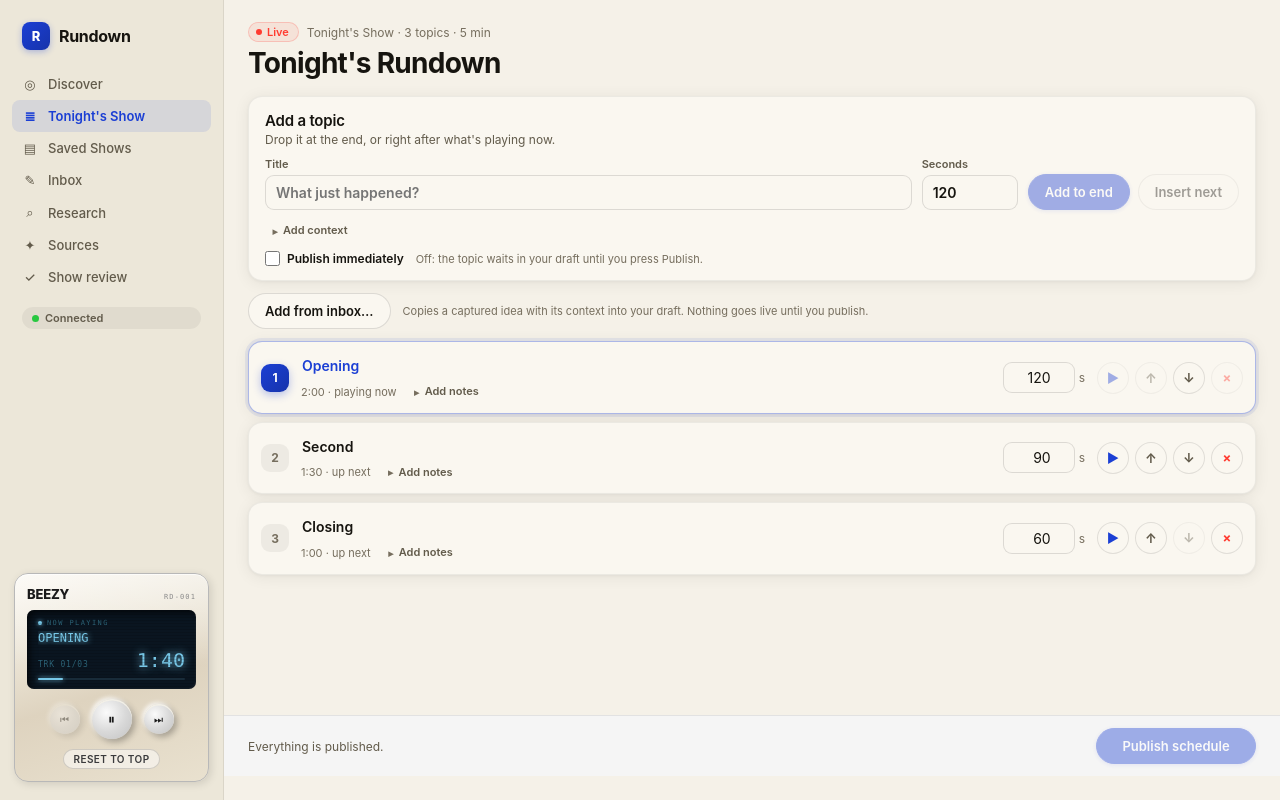
Test: a remote change while drafting keeps the draft; merge-and-publish keeps local edits, remote field changes and remote additions
The image size is (1280, 800).
expect the field showing "Opening" is shown: met, box 295,352 -> 985,379
Replace the text in the field named "Topic 3 title" with "Closing remarks" at (640, 527), box 295,513 -> 985,540
Wait 2000 ms
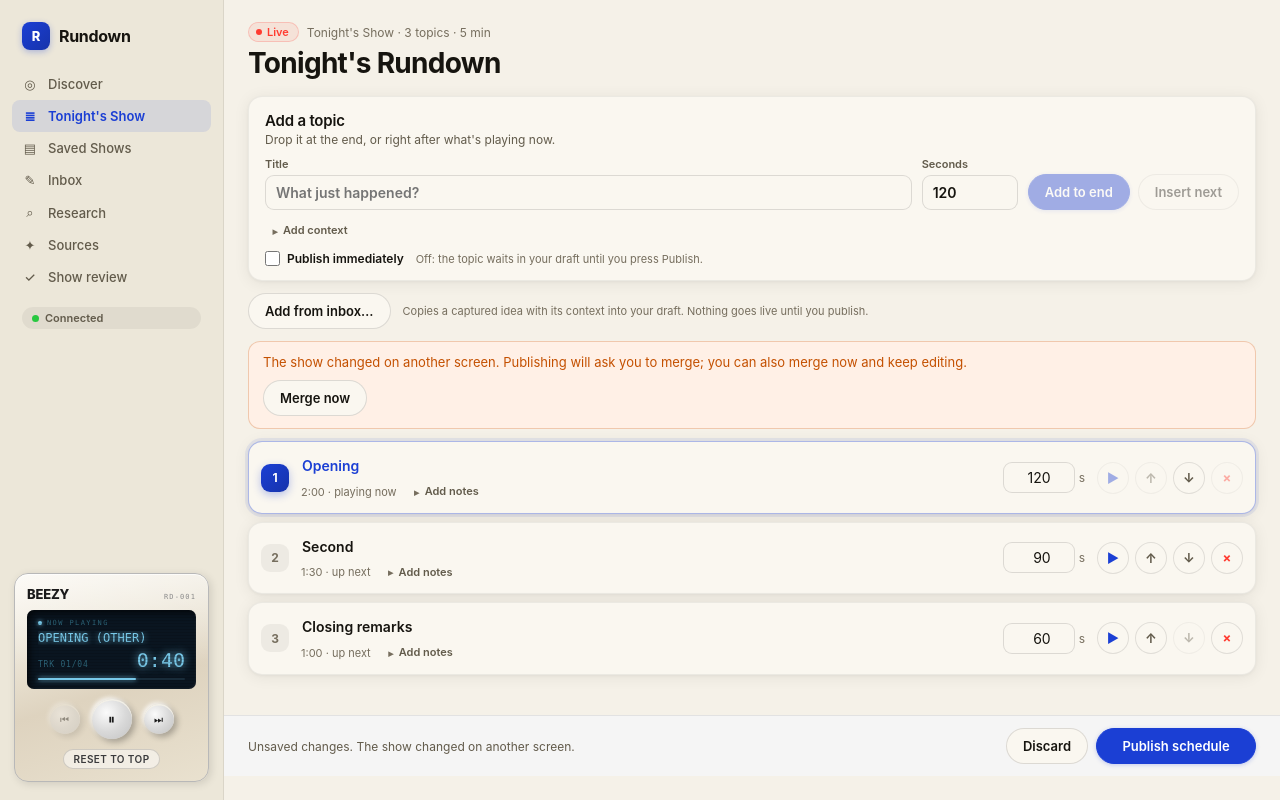
expect the field showing "Remote add" is not shown: met
expect the text "The show changed on another screen. Publishing will ask you to merge" is shown: met, box 263,354 -> 967,370
expect the text "0:40" is shown: met, box 137,650 -> 185,670
Click the button "Publish schedule".
click(1176, 746)  # box 1096,728 -> 1256,764
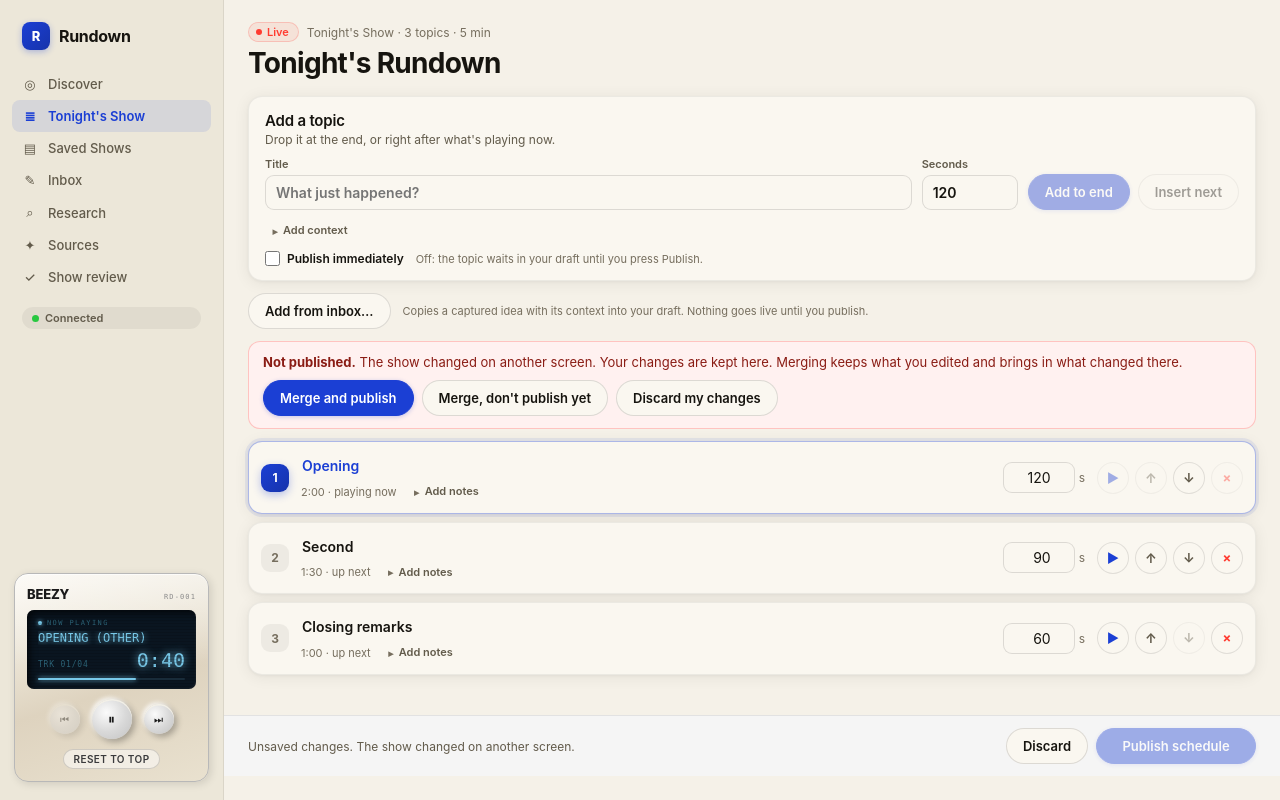
expect the message that starts with "Not published." does not show "revision": met, box 248,341 -> 1256,429
expect the message that starts with "Not published." shows "Not published. The show changed on another screen. Your changes are kept here.": met, box 248,341 -> 1256,429
Click the button "Merge and publish".
click(338, 398)  # box 263,380 -> 414,416
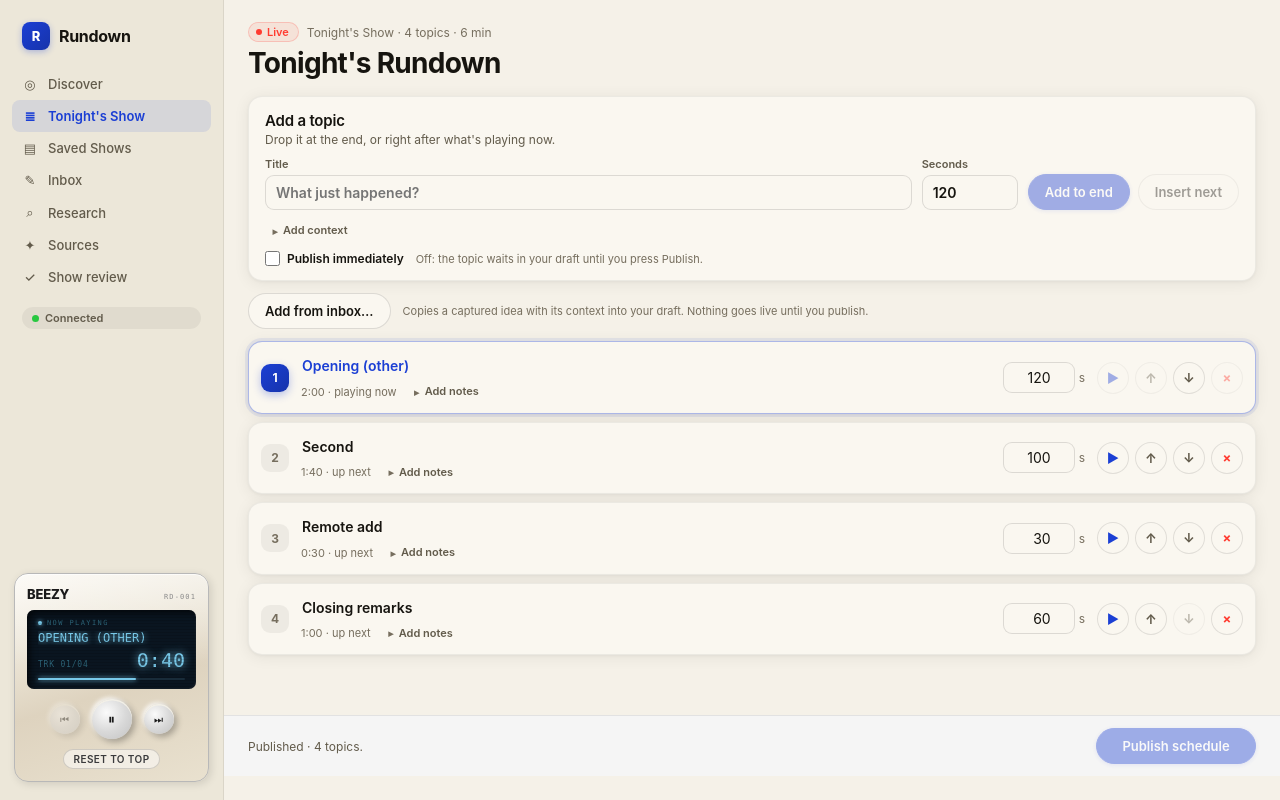
expect the text "Published · 4 topics." is shown: met, box 248,738 -> 363,754
